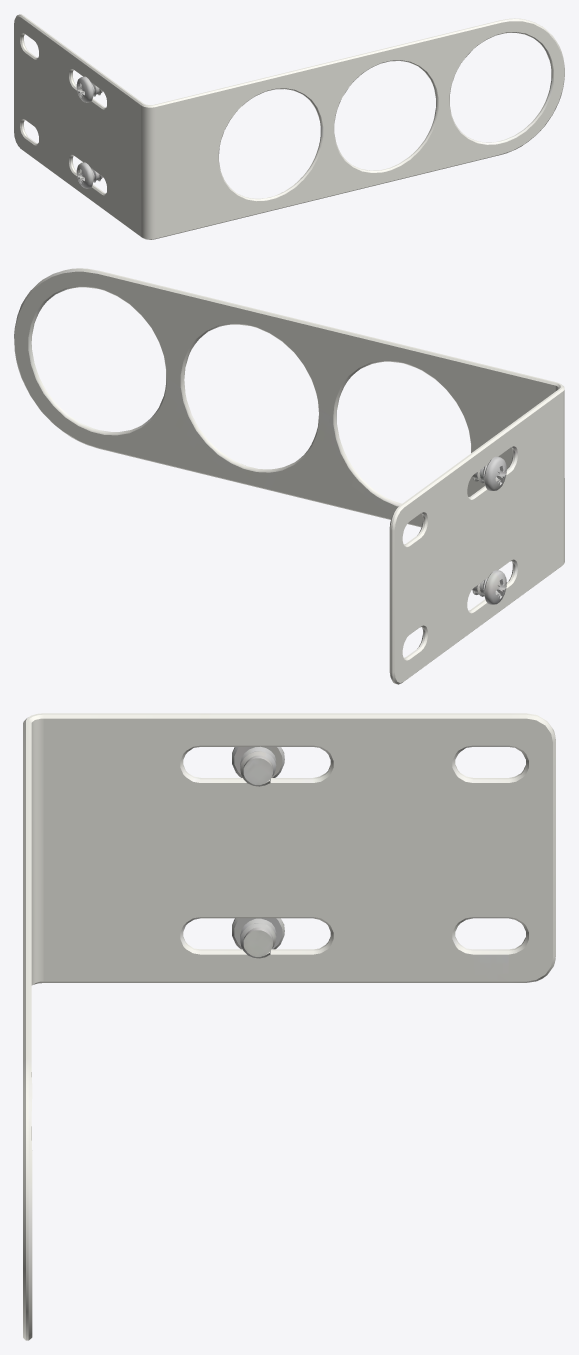
The model's file is 14 - KOMPLEMENT - 衣帽架, 白色, 17x5 公分 IKEA 線上購物.glb.
3 views of the same model, one above another, from view 1: azimuth 30°, elevation 25°; view 2: azimuth 150°, elevation 25°; view 3: azimuth 270°, elevation 25° (orthographic). The views are drawn at different scales.
Parts seen in each view (by area): view 1: model; view 2: model; view 3: model.
Boxes of the visible parts, <box> form: model: <box>14,14,564,239</box>; model: <box>14,268,564,684</box>; model: <box>23,713,555,1340</box>.
Bounding box in the file's own units: 0.1664 × 0.05 × 0.09.
1 material, 1 textured.
